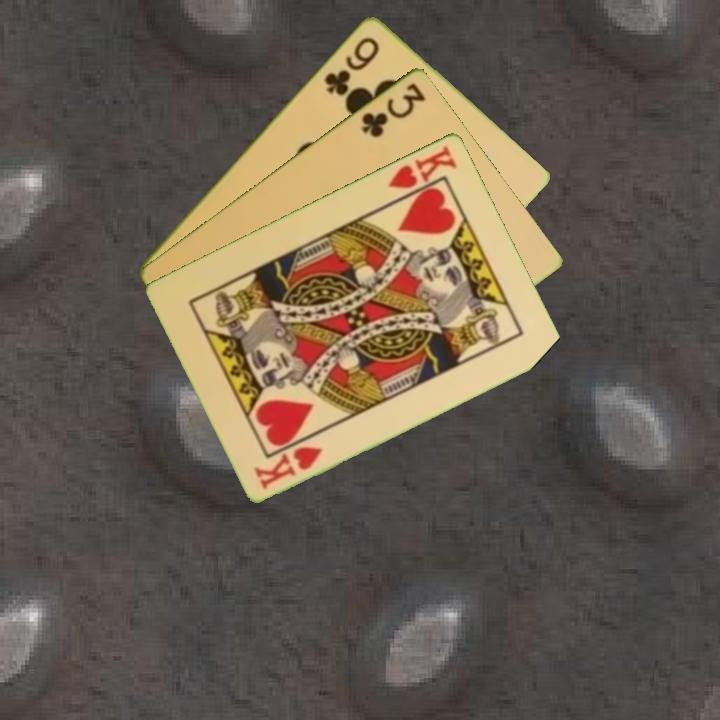3c: (358, 78, 429, 140)
9c: (320, 32, 383, 98)
Kh: (384, 141, 460, 204), (250, 442, 325, 492)
